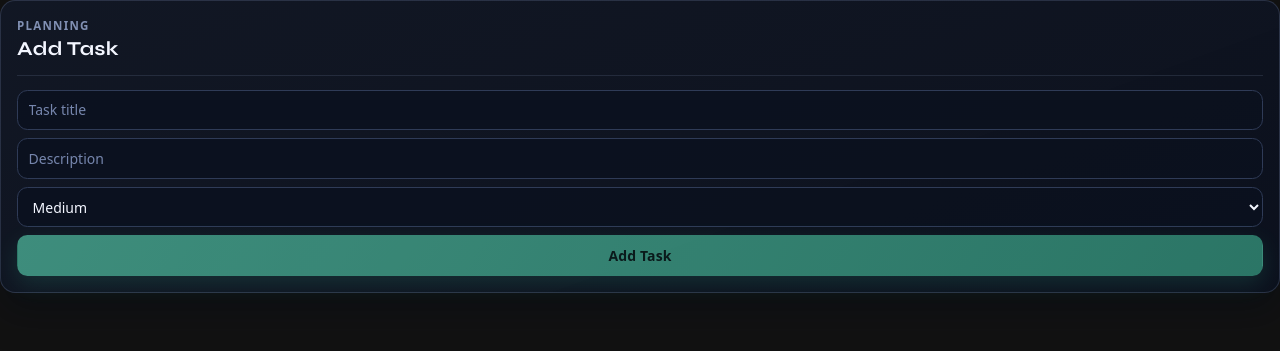
TaskComposerCard › creates a task in backlog lane and notifies parent
Type "Ship updates" into the field with placeholder "Task title" at (640, 110), box [17, 90, 1263, 130]
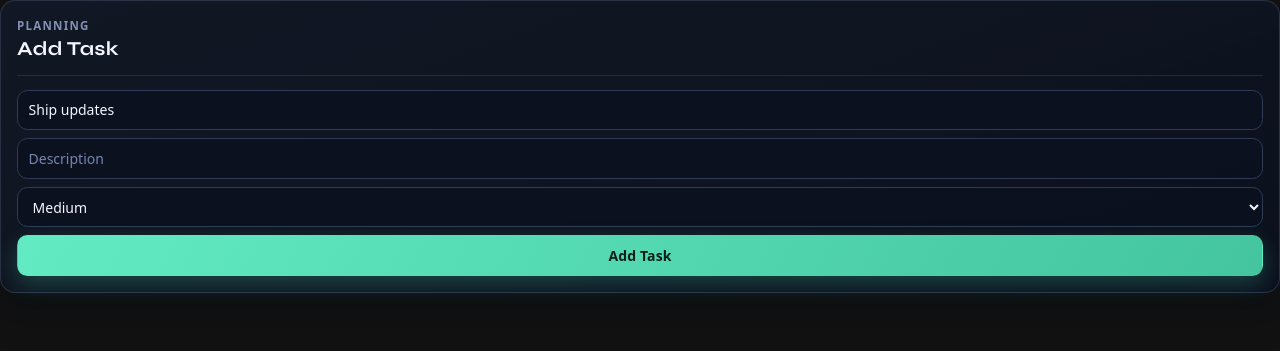
Type "Implement requested UI changes" into the field with placeholder "Description" at (640, 159), box [17, 138, 1263, 179]
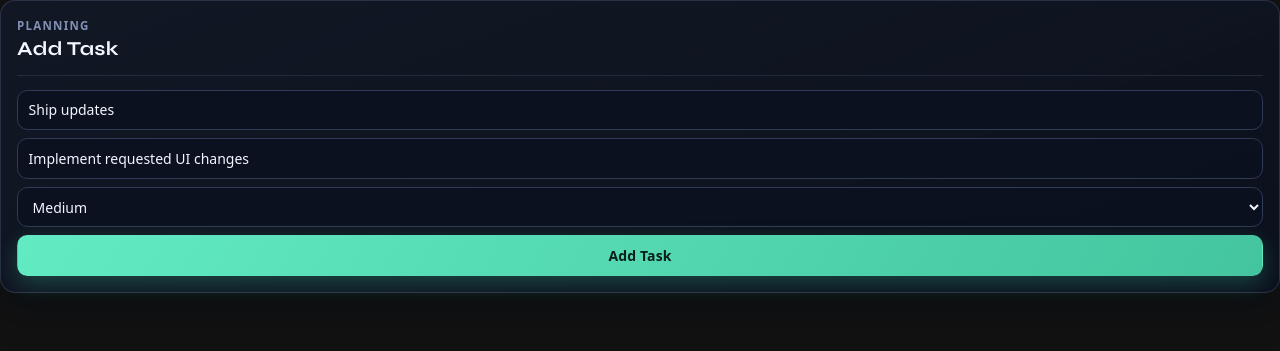
Click the button "Add Task" at (640, 256), box [17, 235, 1263, 276]
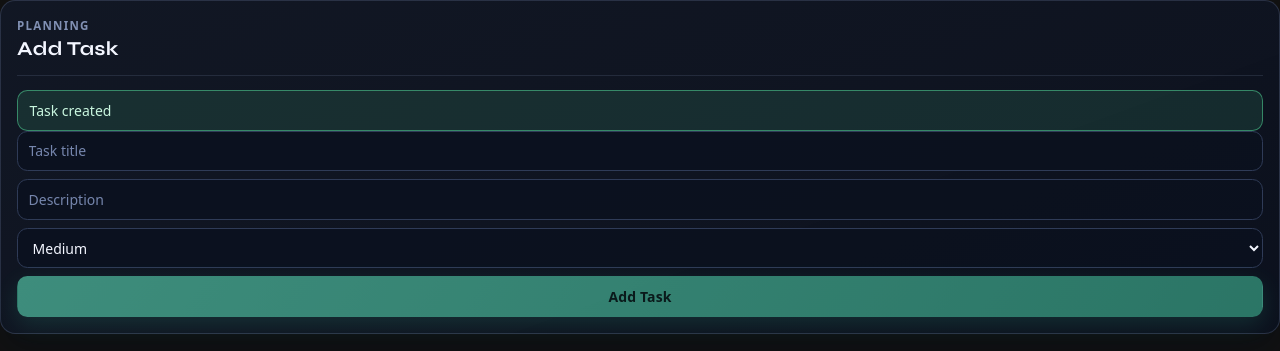
Check: the text "Task created" is shown, box [17, 90, 1263, 131]
